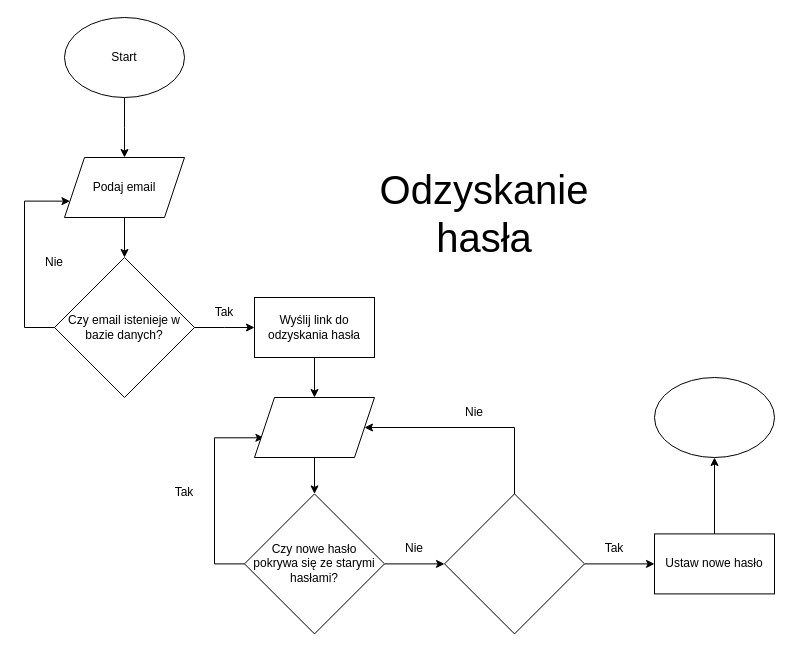
Some shapes in this 792 by 652 pixel diagram are drawn without their labels. Here are the shapes that lost their labels. From the top down, the centre of each, then its label:
At point 314,427: "Podaj nowe hasło".
At point 714,417: "Koniec".
At point 514,563: "Czy hasło jest wystarczająco bezpieczne?".
